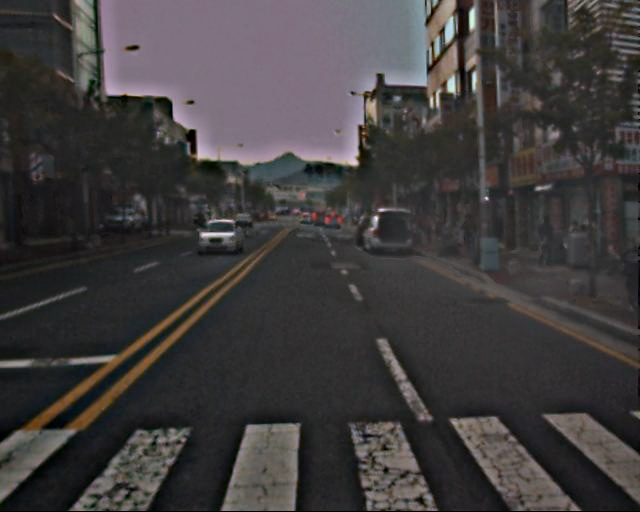person: (569, 217, 604, 264), (536, 216, 557, 268), (419, 215, 440, 239), (464, 214, 477, 246)
